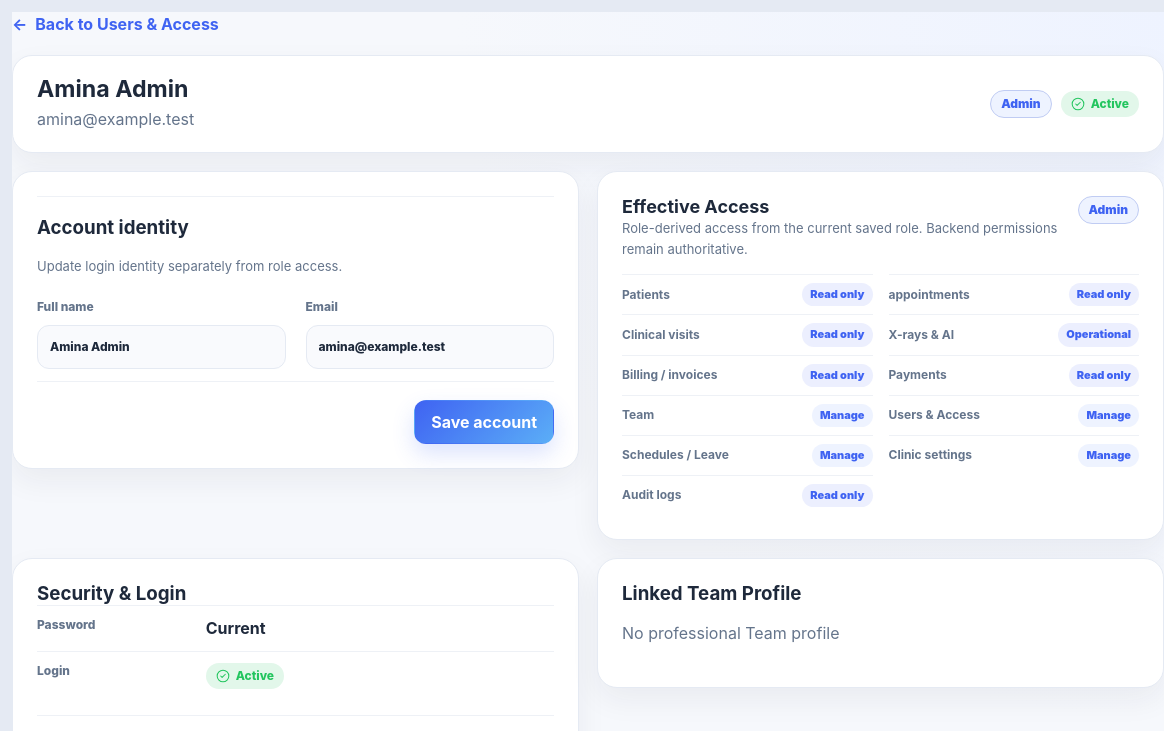
Test: Users & Access pages › keeps Account Identity controlled and submits only on Save account
Step 1. Replace the text in the field labelled "Full name" with "Amina Updated" → (161, 347), box [37,325,286,369]
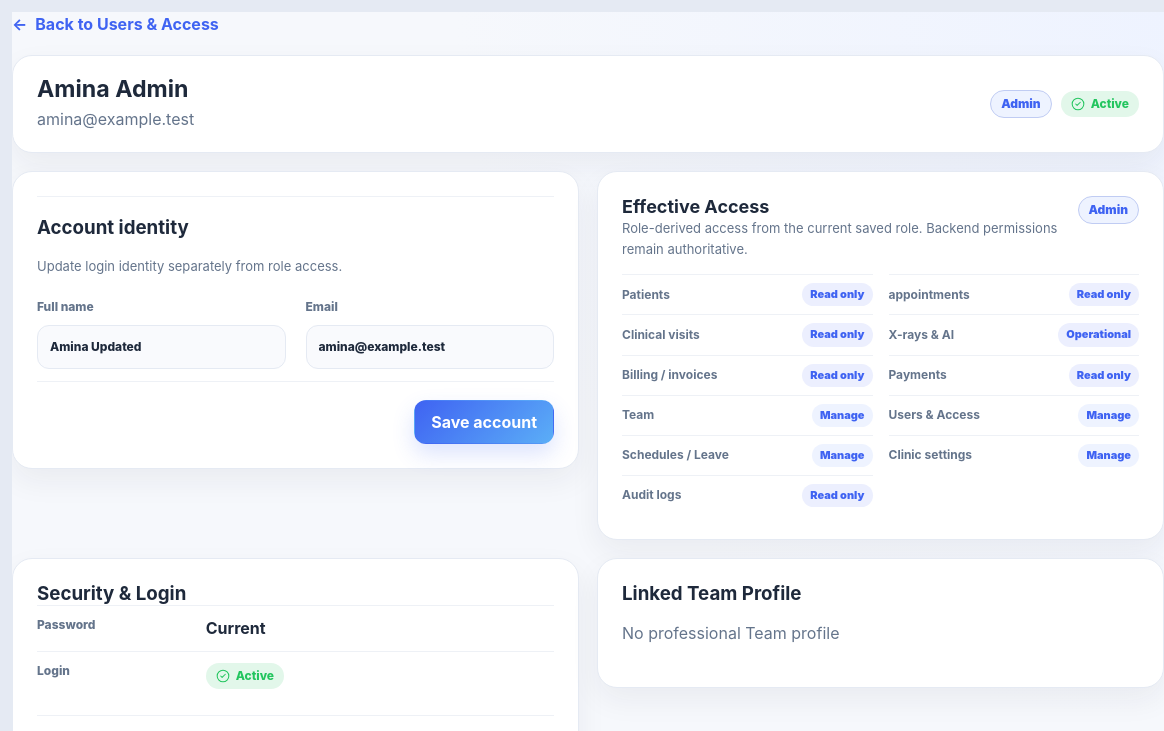
Step 2. Click the button "Save account" → (484, 422), box [414,400,554,444]
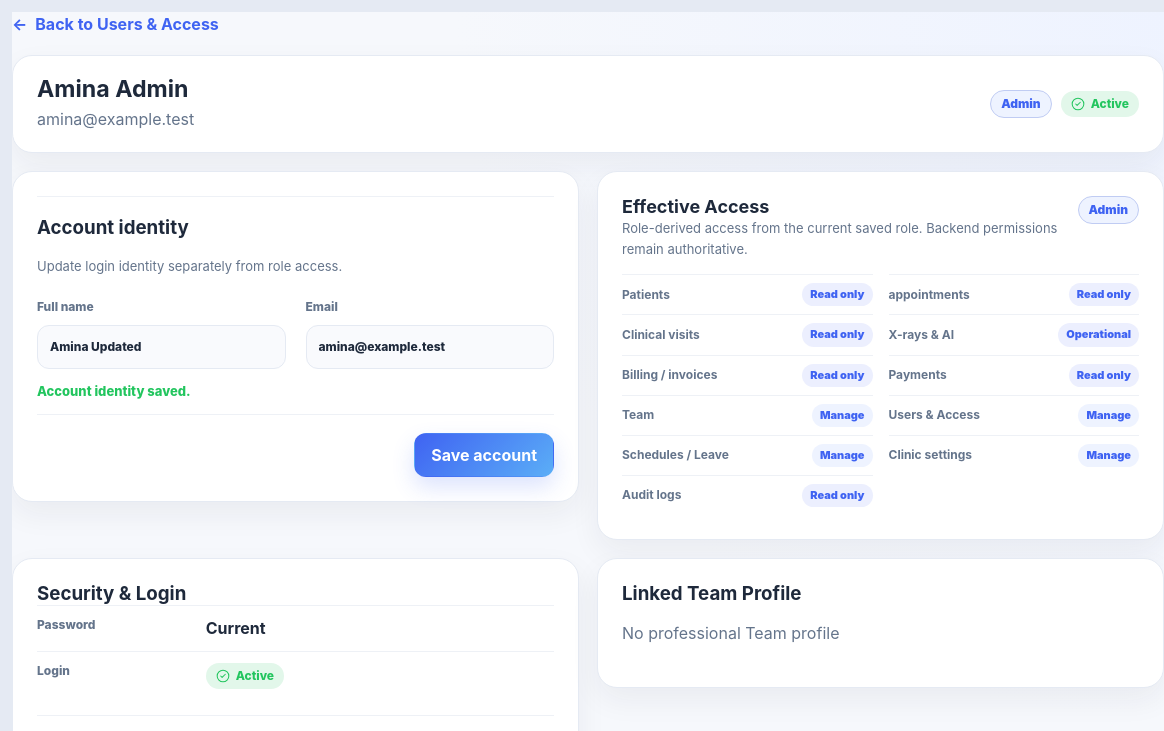
Expected: the text "Account identity saved." is shown, [37,383,191,399]
